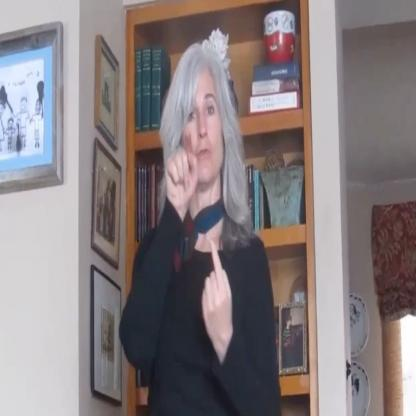NiceToMeetYou: (152, 134, 233, 361)
